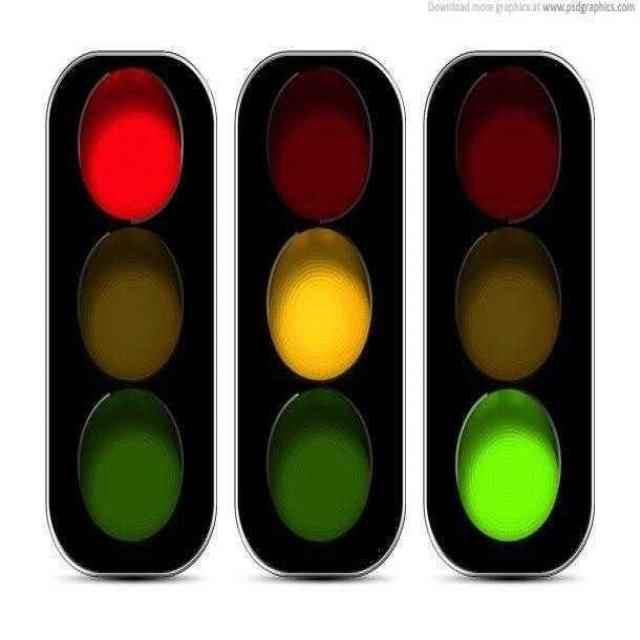Traffic Light -Green-: (414, 34, 598, 590)
Traffic Light -Red-: (38, 39, 238, 574)
Traffic Light -Yellow-: (229, 33, 415, 585)
